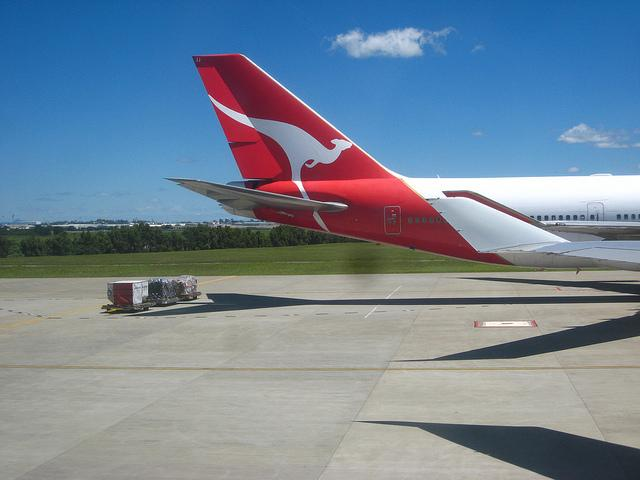airplane: (160, 53, 640, 275)
